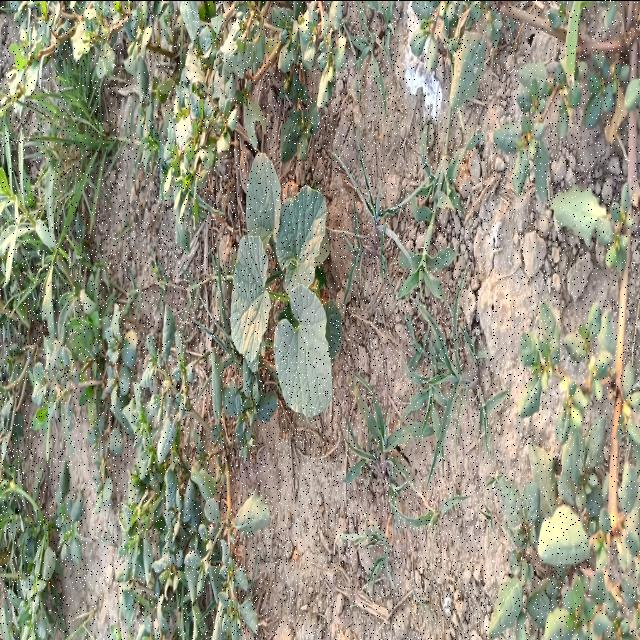plant: (232, 151, 342, 415)
